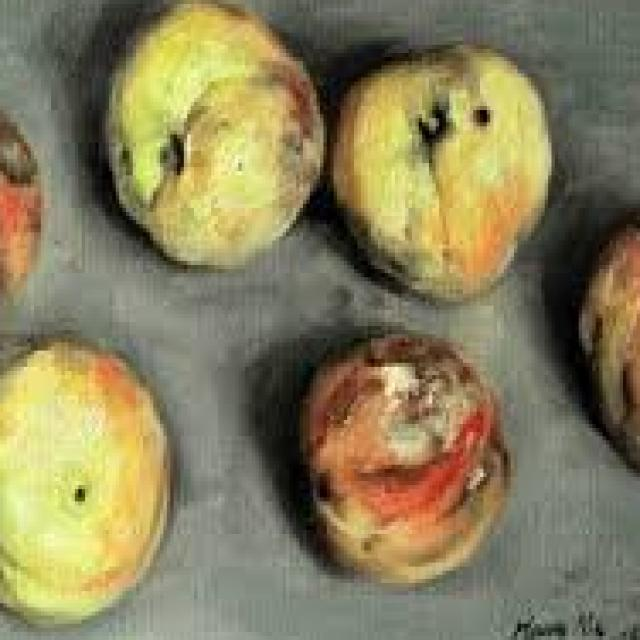inorganic: (280, 307, 564, 609), (79, 78, 353, 288), (5, 318, 185, 632), (331, 88, 572, 288), (553, 213, 640, 447)
